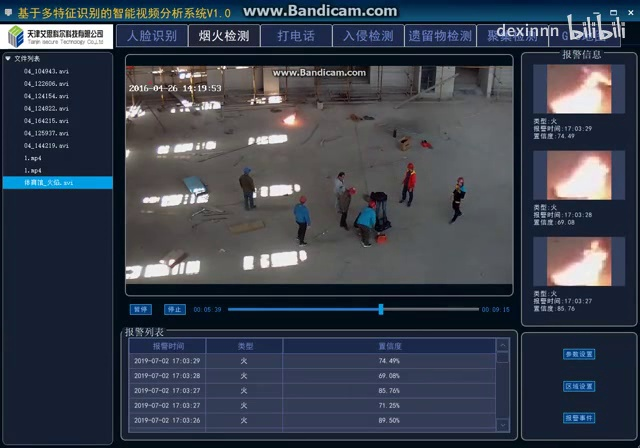fire: (282, 112, 300, 127)
